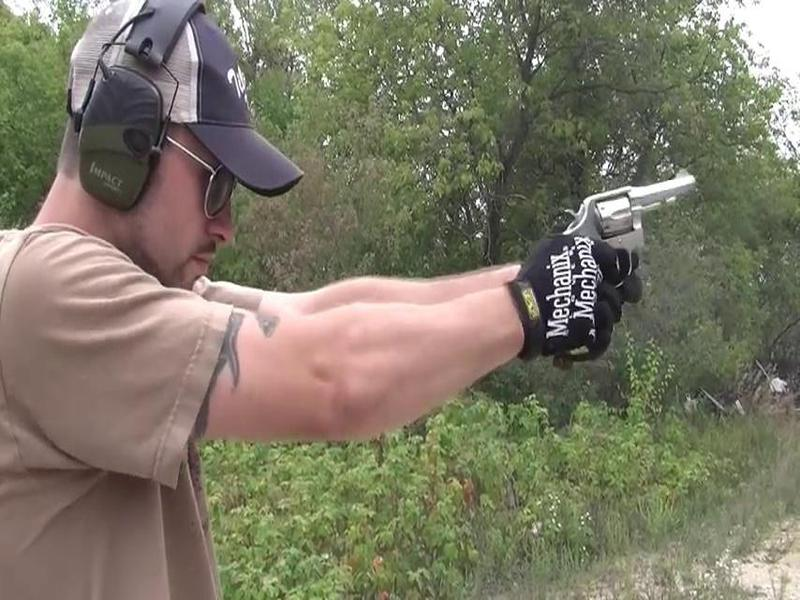Revolver: (553, 158, 704, 295)
